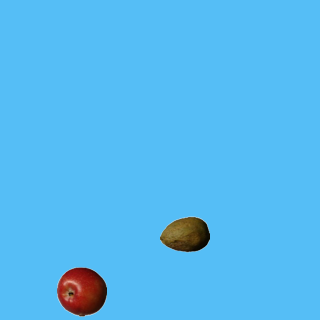Apple Braeburn: (56, 266, 106, 316)
Papaya: (159, 209, 209, 259)
